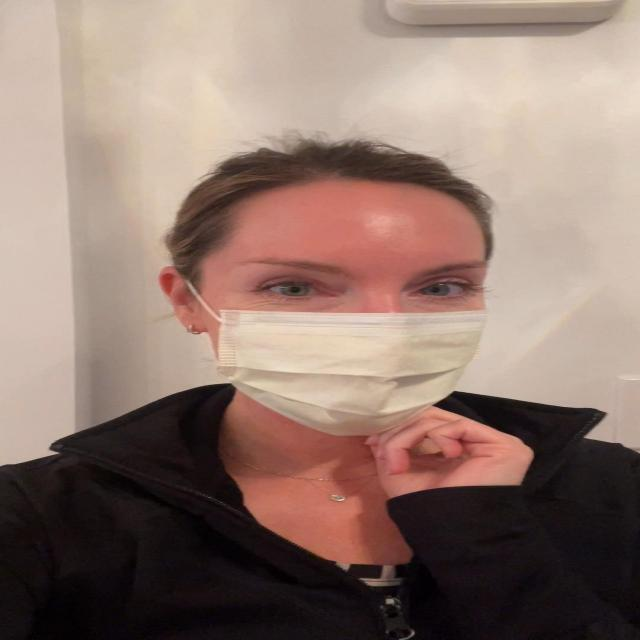no hat: (188, 185, 493, 432)
